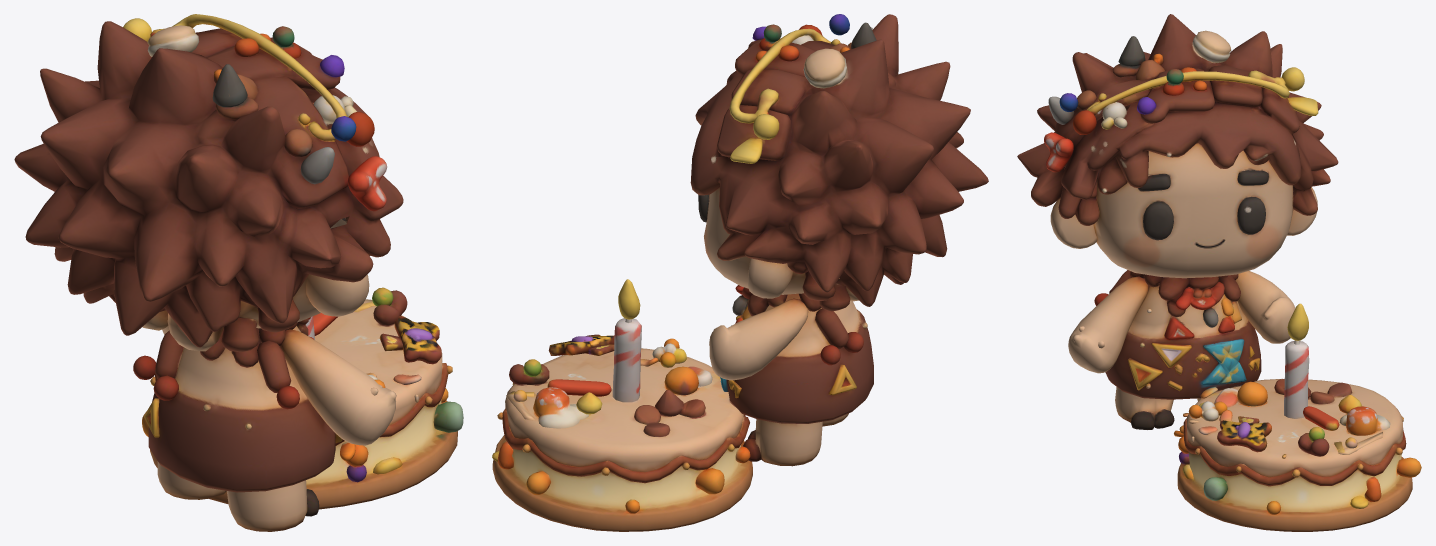
Rendered from cake.glb.
3 views of the same model, side by side, from view 1: azimuth 30°, elevation 25°; view 2: azimuth 150°, elevation 25°; view 3: azimuth 270°, elevation 25° (orthographic). The views are drawn at different scales.
Parts seen in each view (by area): view 1: tripo_node_f5cdd758-3742-4c75-a8a1-0a3a078de871; view 2: tripo_node_f5cdd758-3742-4c75-a8a1-0a3a078de871; view 3: tripo_node_f5cdd758-3742-4c75-a8a1-0a3a078de871.
Part boxes in pixels (x1,y1,x2,y2): tripo_node_f5cdd758-3742-4c75-a8a1-0a3a078de871: (14,14,463,531); tripo_node_f5cdd758-3742-4c75-a8a1-0a3a078de871: (492,14,988,531); tripo_node_f5cdd758-3742-4c75-a8a1-0a3a078de871: (1017,14,1421,531).
Size of the model in its own units: 0.9243 by 0.9995 by 0.9292.
Materials: 1 (1 with a texture image).
